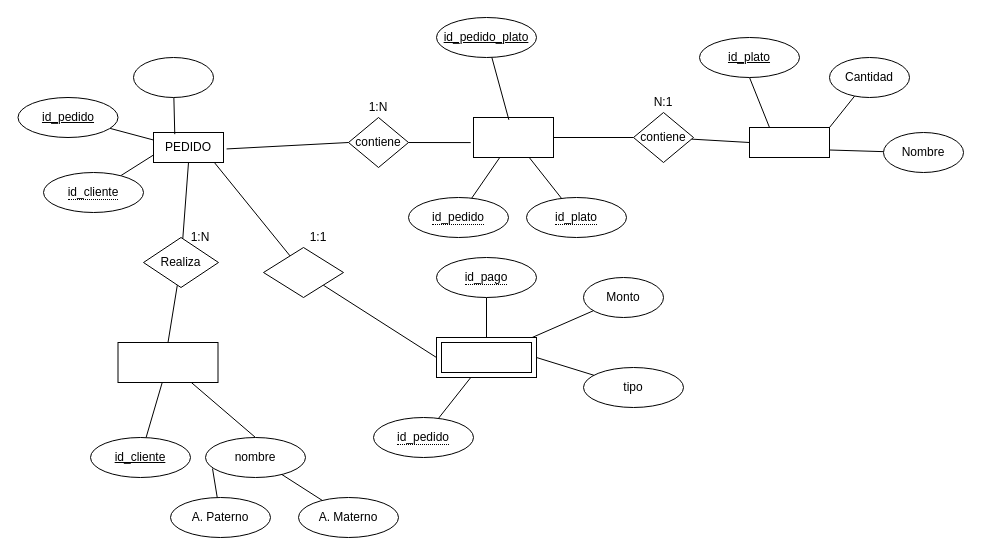
Image size: 981x555. Some labels were removed from this diagram. Here are the shapes that lost their labels. From the top down, the centre of each, then its label:
the point at 173,77: fecha
the point at 513,137: PEDIDO - PLATO
the point at 789,142: PLATOS
the point at 303,272: tiene
the point at 167,362: CLIENTE
the point at 486,357: PAGO
